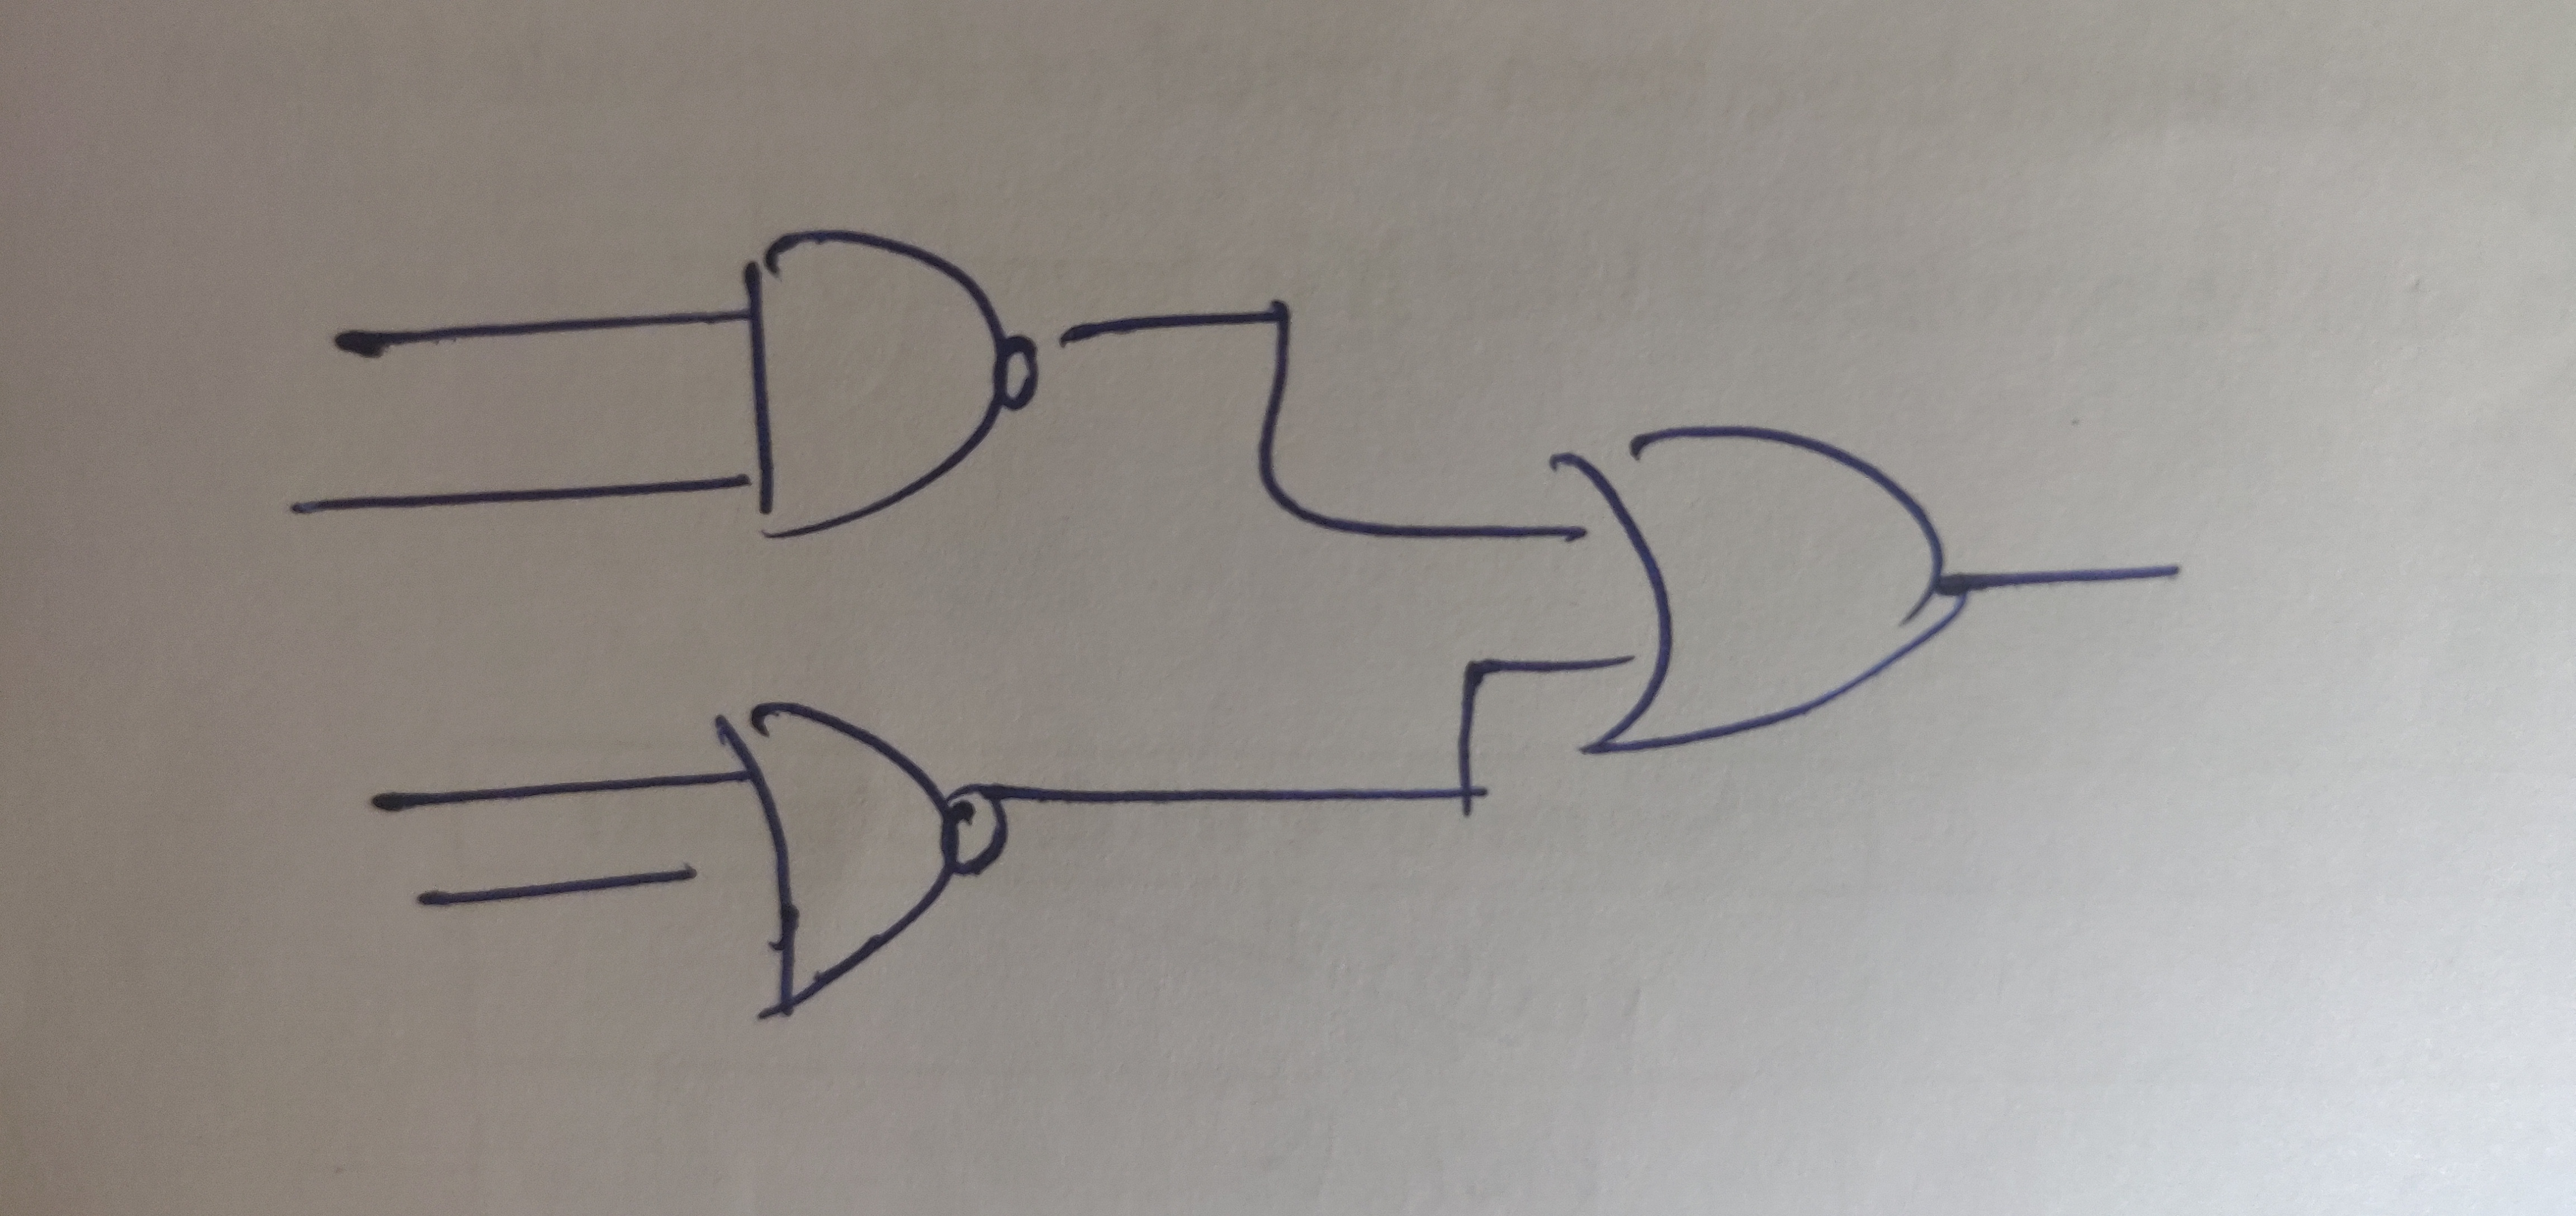nand: (667, 177, 1157, 588)
nor: (642, 667, 1134, 1058)
or: (1505, 421, 2083, 789)
